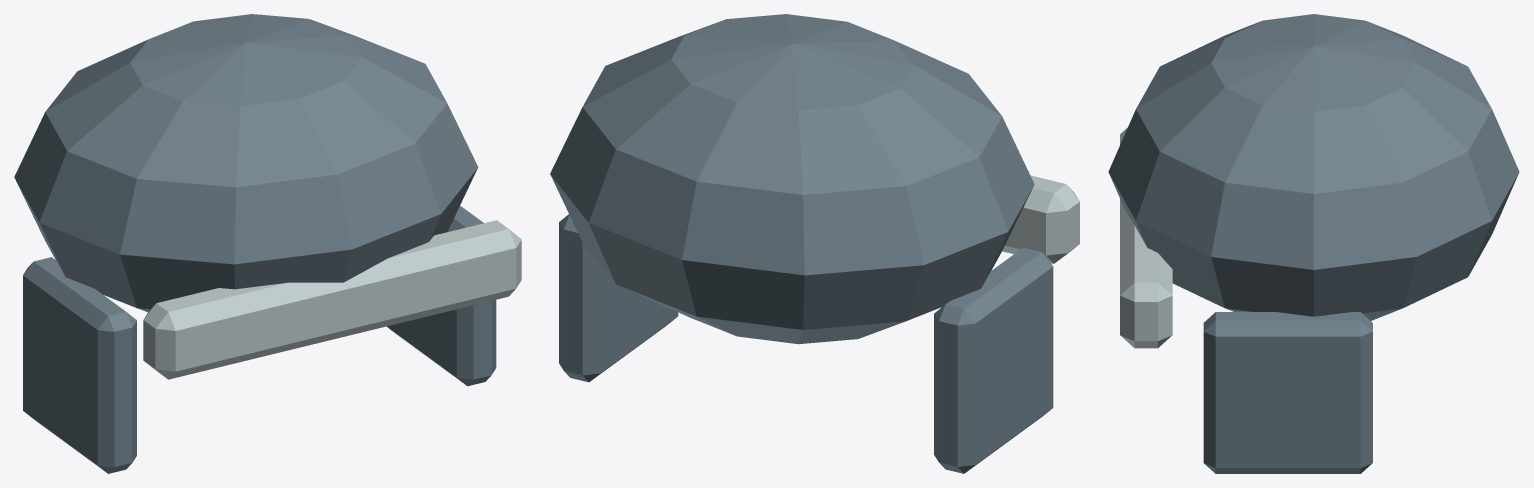
File: iron_helm.glb
3 views of the same model, side by side, from view 1: azimuth 30°, elevation 25°; view 2: azimuth 150°, elevation 25°; view 3: azimuth 270°, elevation 25° (orthographic). The views are drawn at different scales.
Parts seen in each view (by area): view 1: Gear_Head_Helm__Shell, Gear_Head_Helm__Brow, Gear_Head_Helm__Cheek_L, Gear_Head_Helm__Cheek_R; view 2: Gear_Head_Helm__Shell, Gear_Head_Helm__Cheek_L, Gear_Head_Helm__Cheek_R, Gear_Head_Helm__Brow; view 3: Gear_Head_Helm__Shell, Gear_Head_Helm__Cheek_R, Gear_Head_Helm__Brow.
Part boxes in pixels (x1=…): Gear_Head_Helm__Shell: x1=14, y1=14, x2=478, y2=311; Gear_Head_Helm__Brow: x1=143, y1=220, x2=521, y2=379; Gear_Head_Helm__Cheek_L: x1=23, y1=257, x2=136, y2=473; Gear_Head_Helm__Cheek_R: x1=386, y1=205, x2=496, y2=386; Gear_Head_Helm__Shell: x1=550, y1=14, x2=1034, y2=344; Gear_Head_Helm__Cheek_L: x1=934, y1=247, x2=1053, y2=473; Gear_Head_Helm__Cheek_R: x1=559, y1=214, x2=678, y2=382; Gear_Head_Helm__Brow: x1=1002, y1=175, x2=1079, y2=263; Gear_Head_Helm__Shell: x1=1108, y1=14, x2=1519, y2=320; Gear_Head_Helm__Cheek_R: x1=1203, y1=312, x2=1372, y2=473; Gear_Head_Helm__Brow: x1=1120, y1=127, x2=1172, y2=348.
Size of the model in its own units: 0.576 by 0.463 by 0.51.
